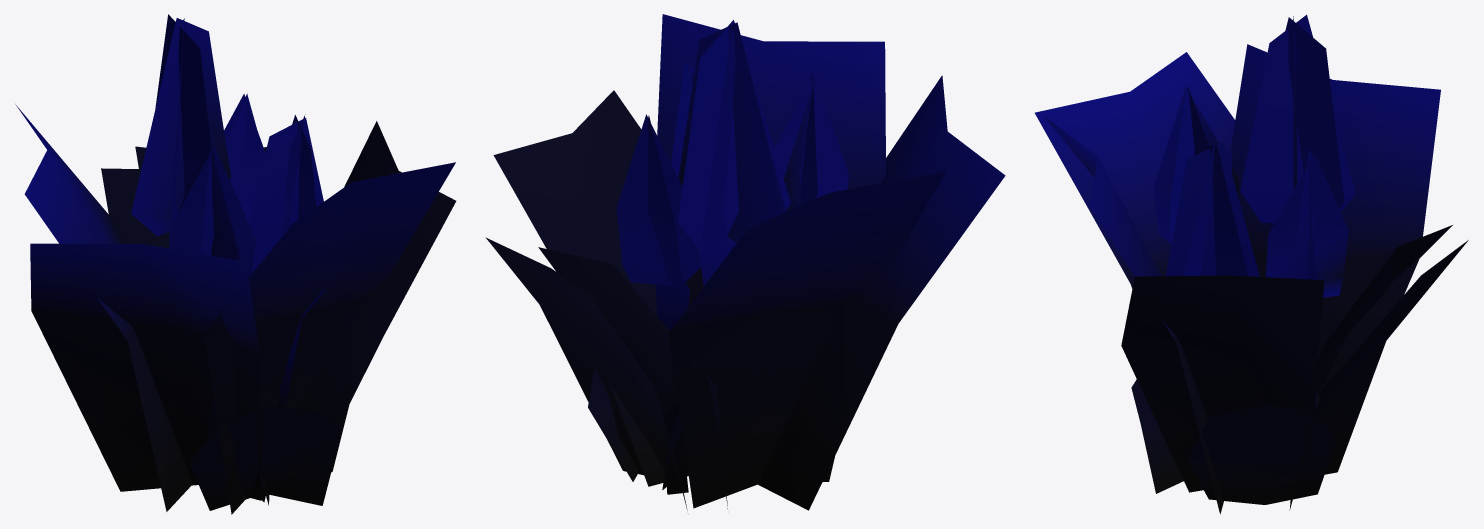
File: SM_Foliage_ReedC_03.fbx
3 views of the same model, side by side, from view 1: azimuth 30°, elevation 25°; view 2: azimuth 150°, elevation 25°; view 3: azimuth 270°, elevation 25° (orthographic). The views are drawn at different scales.
Visible parts, largest first — view 1: SM_Foliage_ReedC_03; view 2: SM_Foliage_ReedC_03; view 3: SM_Foliage_ReedC_03.
Part boxes in pixels (x1,y1,x2,y2): SM_Foliage_ReedC_03: (15, 14, 456, 514); SM_Foliage_ReedC_03: (485, 14, 1005, 510); SM_Foliage_ReedC_03: (1035, 14, 1468, 514).
Size of the model in its own units: 97.61 by 90.38 by 103.
